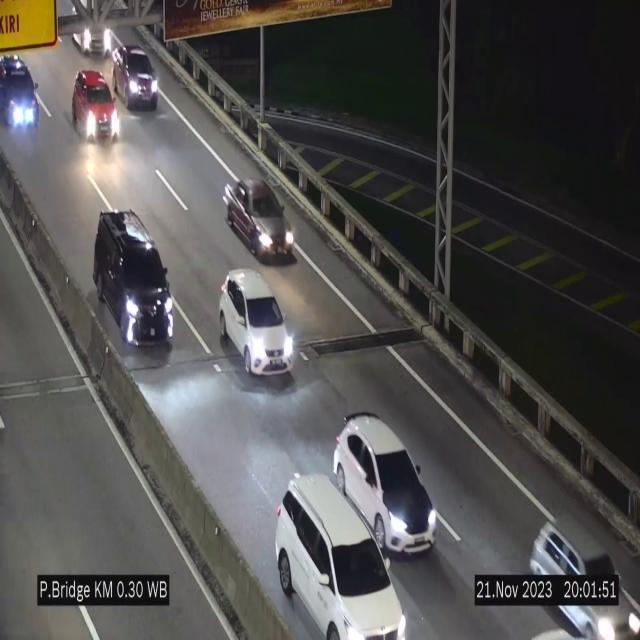Car: (276, 475, 405, 640), (332, 412, 437, 555), (90, 206, 176, 350), (219, 271, 295, 376), (224, 177, 294, 261), (73, 67, 121, 146), (0, 55, 44, 141), (110, 42, 161, 114)
